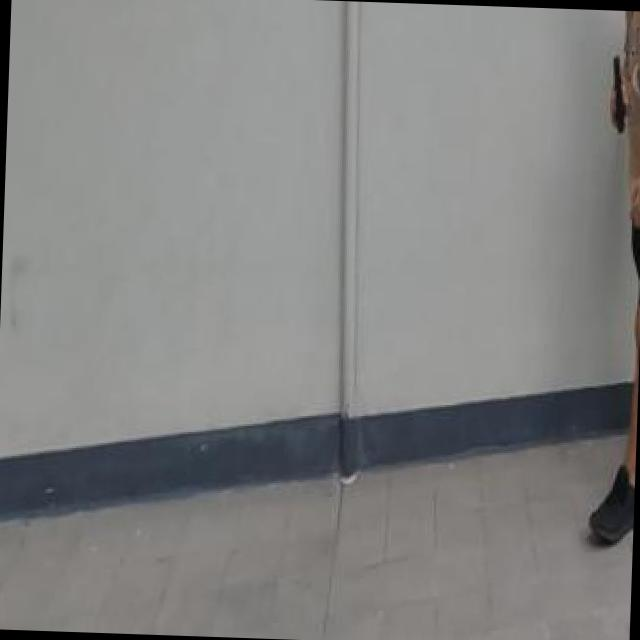Guns: (602, 47, 640, 144)
